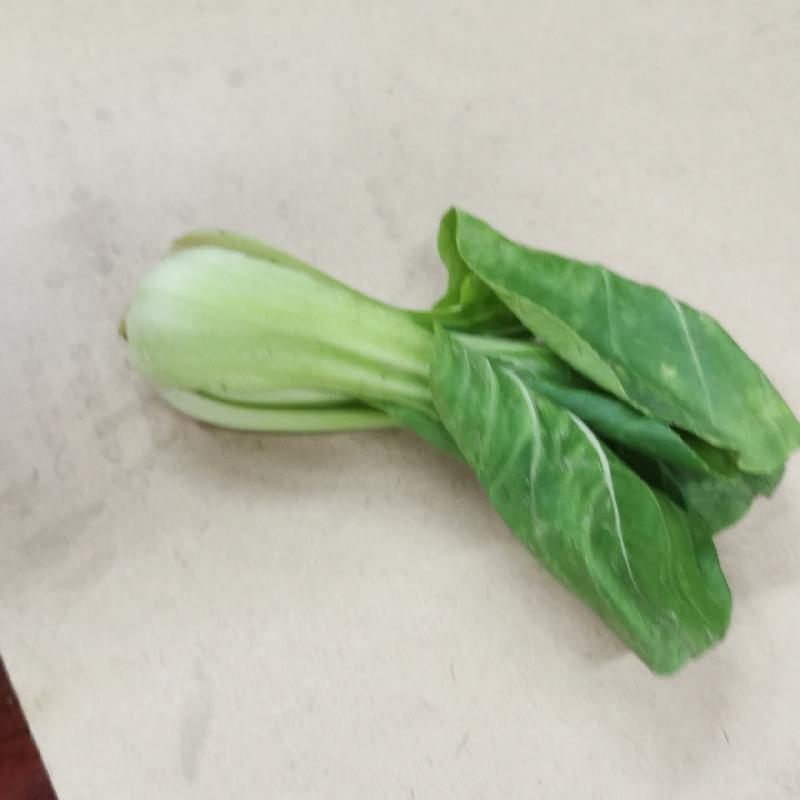green vegatable: (118, 204, 800, 676)
